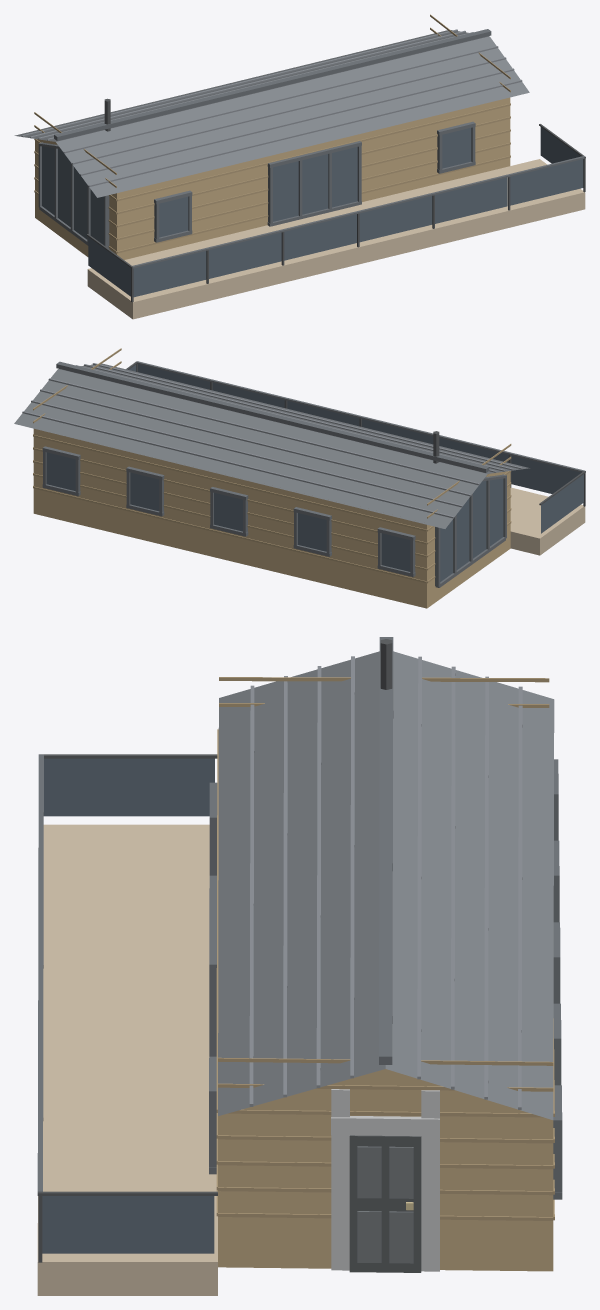
3 views of the same model, one above another, from view 1: azimuth 30°, elevation 25°; view 2: azimuth 150°, elevation 25°; view 3: azimuth 270°, elevation 25° (orthographic). The views are drawn at different scales.
Visible parts, largest first — view 1: slate, door_wood, larch, slate_dk, slate_lt, door_wood_p, window_glass_014, window_glass_006, window_glass_004, window_glass_001, window_glass_005, window_glass_002 (+9 smaller); view 2: slate, door_wood, slate_dk, slate_lt, door_wood_p, window_glass_014, larch, window_glass_001, window_glass_007, window_glass_016, window_glass_019, window_glass_015 (+8 smaller); view 3: slate, larch, door_wood, slate_lt, slate_dk, door_wood_p, window_glass_008, window_glass_007, stone_band, door_dark, door_dark_p, pipe.
Boxes of the visible parts, x1=… form: slate: x1=14, y1=30, x2=529, y2=197; door_wood: x1=35, y1=97, x2=510, y2=259; larch: x1=87, y1=159, x2=585, y2=319; slate_dk: x1=38, y1=29, x2=584, y2=268; slate_lt: x1=22, y1=29, x2=522, y2=186; door_wood_p: x1=34, y1=14, x2=510, y2=253; window_glass_014: x1=42, y1=146, x2=103, y2=244; window_glass_006: x1=510, y1=159, x2=583, y2=205; window_glass_004: x1=359, y1=196, x2=432, y2=242; window_glass_001: x1=133, y1=251, x2=206, y2=297; window_glass_005: x1=435, y1=177, x2=507, y2=223; window_glass_002: x1=209, y1=232, x2=281, y2=278; slate: x1=14, y1=363, x2=529, y2=528; door_wood: x1=33, y1=428, x2=510, y2=608; slate_dk: x1=42, y1=361, x2=584, y2=587; slate_lt: x1=22, y1=363, x2=522, y2=518; door_wood_p: x1=33, y1=348, x2=511, y2=583; window_glass_014: x1=440, y1=478, x2=503, y2=581; larch: x1=510, y1=487, x2=585, y2=555; window_glass_001: x1=511, y1=455, x2=581, y2=493; window_glass_007: x1=541, y1=474, x2=583, y2=533; window_glass_016: x1=130, y1=472, x2=159, y2=511; window_glass_019: x1=381, y1=533, x2=410, y2=571; window_glass_015: x1=46, y1=452, x2=75, y2=490; slate: x1=218, y1=651, x2=554, y2=1119; larch: x1=37, y1=824, x2=217, y2=1295; door_wood: x1=218, y1=1069, x2=553, y2=1271; slate_lt: x1=249, y1=656, x2=522, y2=1109; slate_dk: x1=37, y1=637, x2=562, y2=1199; door_wood_p: x1=216, y1=677, x2=554, y2=1220; window_glass_008: x1=42, y1=1196, x2=214, y2=1253; window_glass_007: x1=44, y1=758, x2=214, y2=816; stone_band: x1=331, y1=1089, x2=439, y2=1271; door_dark: x1=349, y1=1135, x2=421, y2=1272; door_dark_p: x1=357, y1=1146, x2=413, y2=1263; pipe: x1=37, y1=639, x2=392, y2=1262.
Size of the model in its own units: 13.83 by 4.08 by 6.99.
